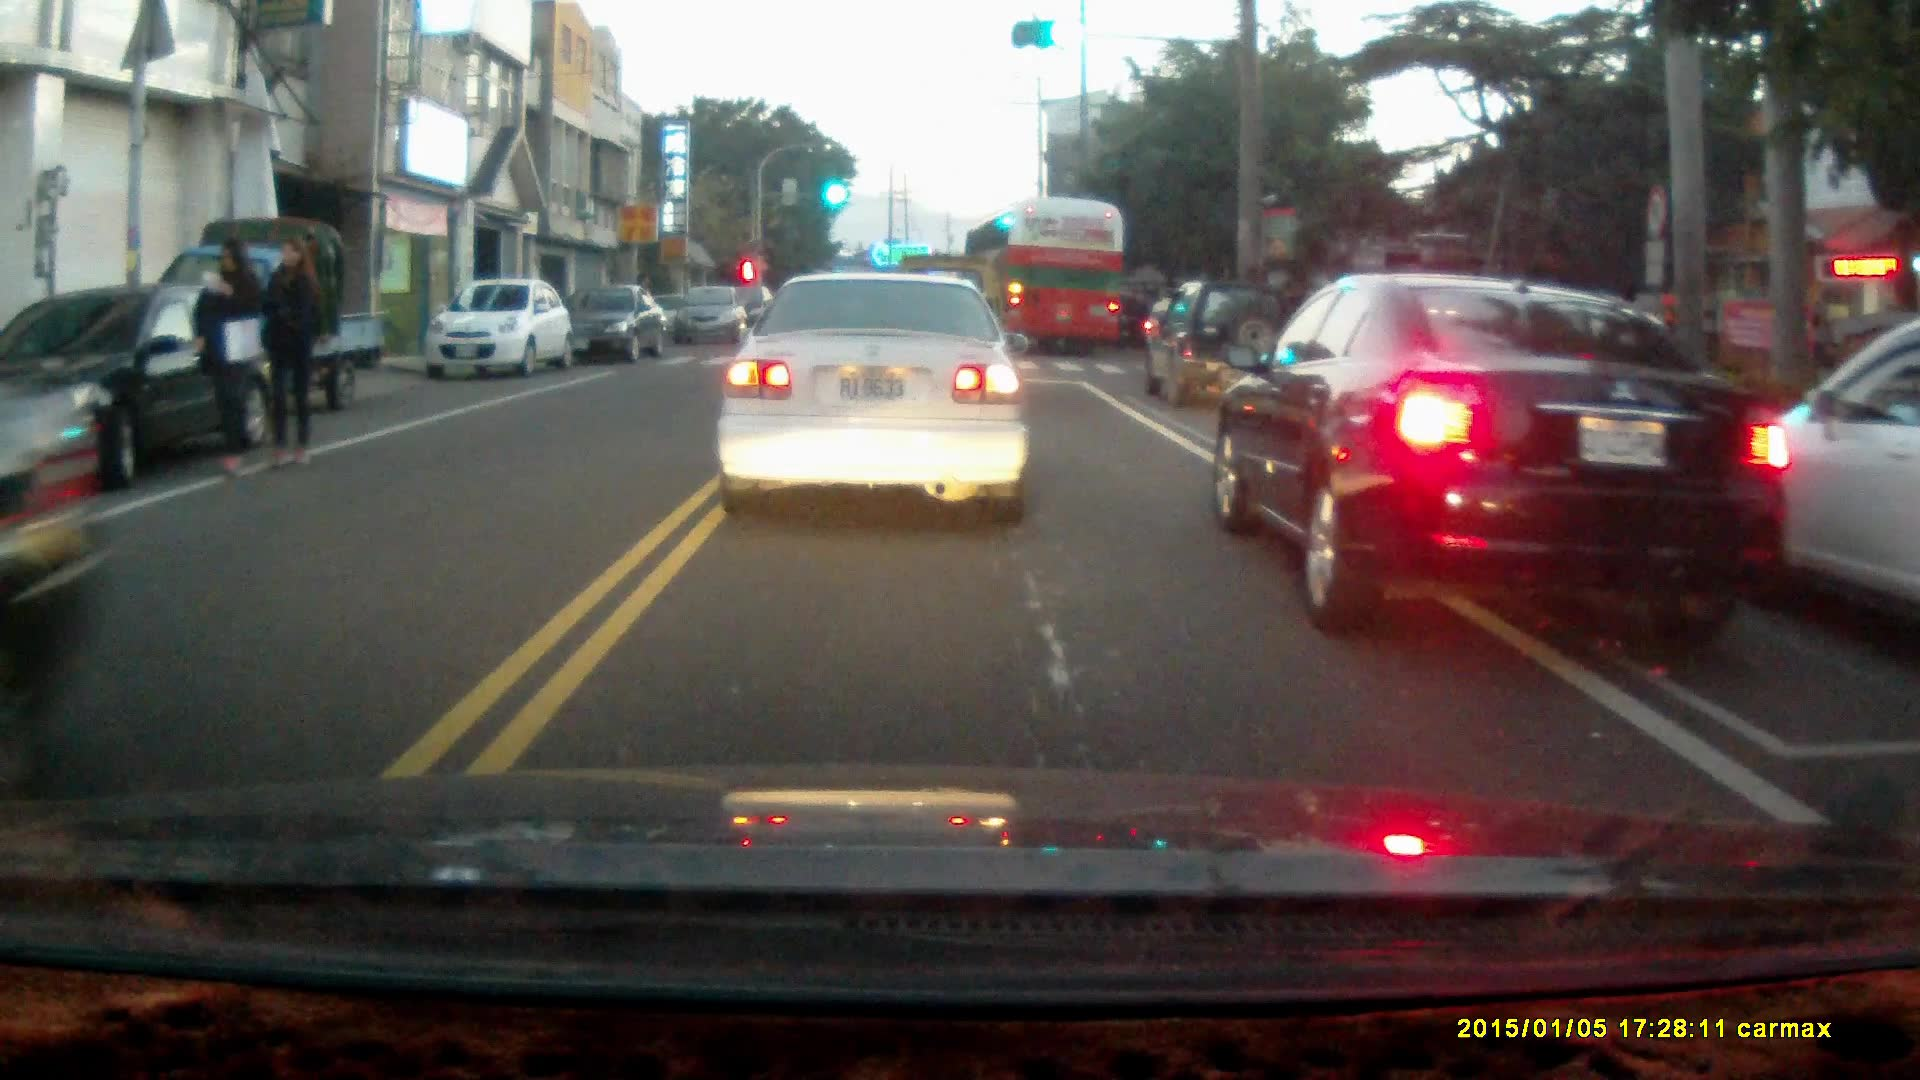pedestrian: (192, 235, 264, 475), (259, 234, 318, 458)
vehicle: (1212, 274, 1798, 626), (1, 281, 211, 805), (714, 266, 1030, 523), (1697, 322, 1920, 610), (1, 278, 280, 483), (149, 213, 394, 413), (963, 199, 1124, 358), (1150, 279, 1287, 407), (426, 279, 577, 380), (560, 278, 671, 366), (673, 286, 754, 345)
